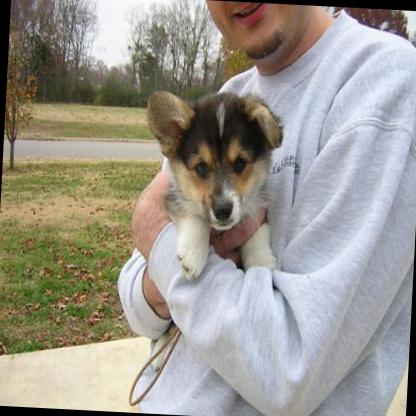Pembroke: (136, 84, 288, 284)
